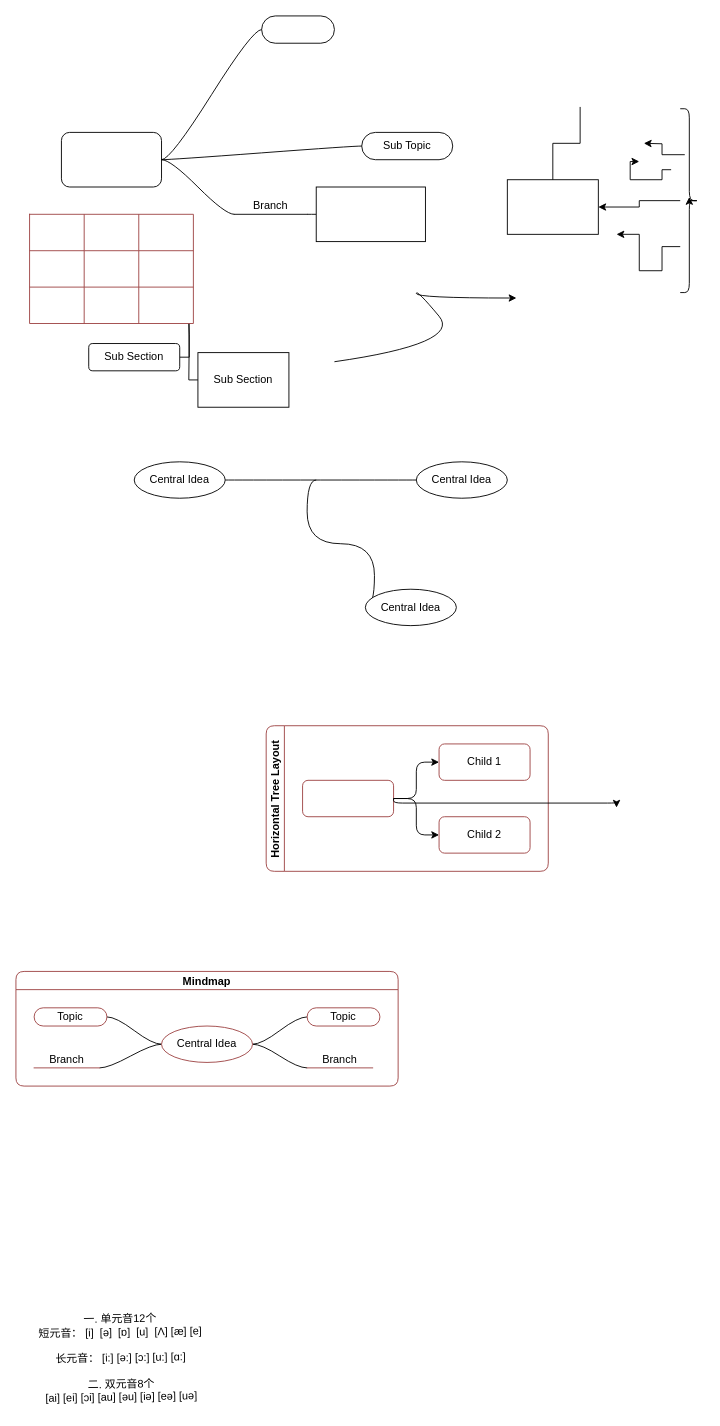
Some shapes in this 720 by 1426 pixel diagram are drawn without their labels. The centre of each missing label's shape, as x and y in pixels:
"Division" belongs at point 552,206.
"Organization" belongs at point 370,214.
"Root" belongs at point 348,798.
"sub1_" belongs at point 297,29.
